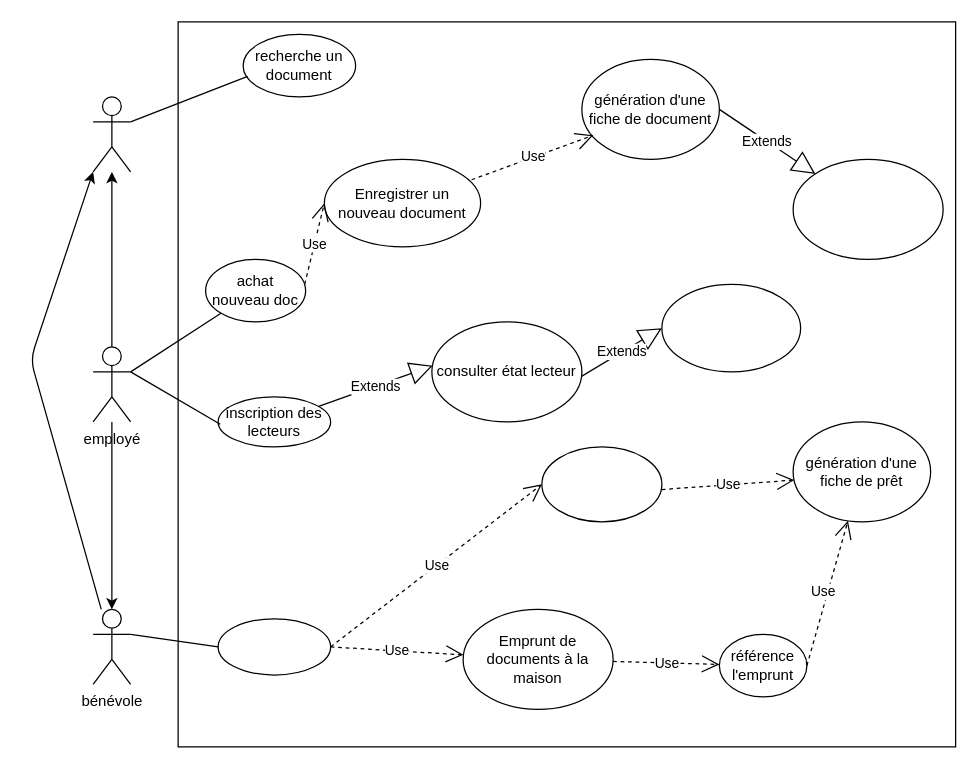
Some shapes in this 978 by 769 pixel diagram are drawn without their labels. Each missing label, with the box of its shape:
gestion des prêts: (217, 618, 331, 675)
lecteur: (92, 96, 131, 172)
mettre hors service un doc: (792, 158, 943, 259)
Mise en circulation CD et Micro-film: (541, 446, 662, 522)
Modifier fiche lecteur: (661, 283, 801, 372)
